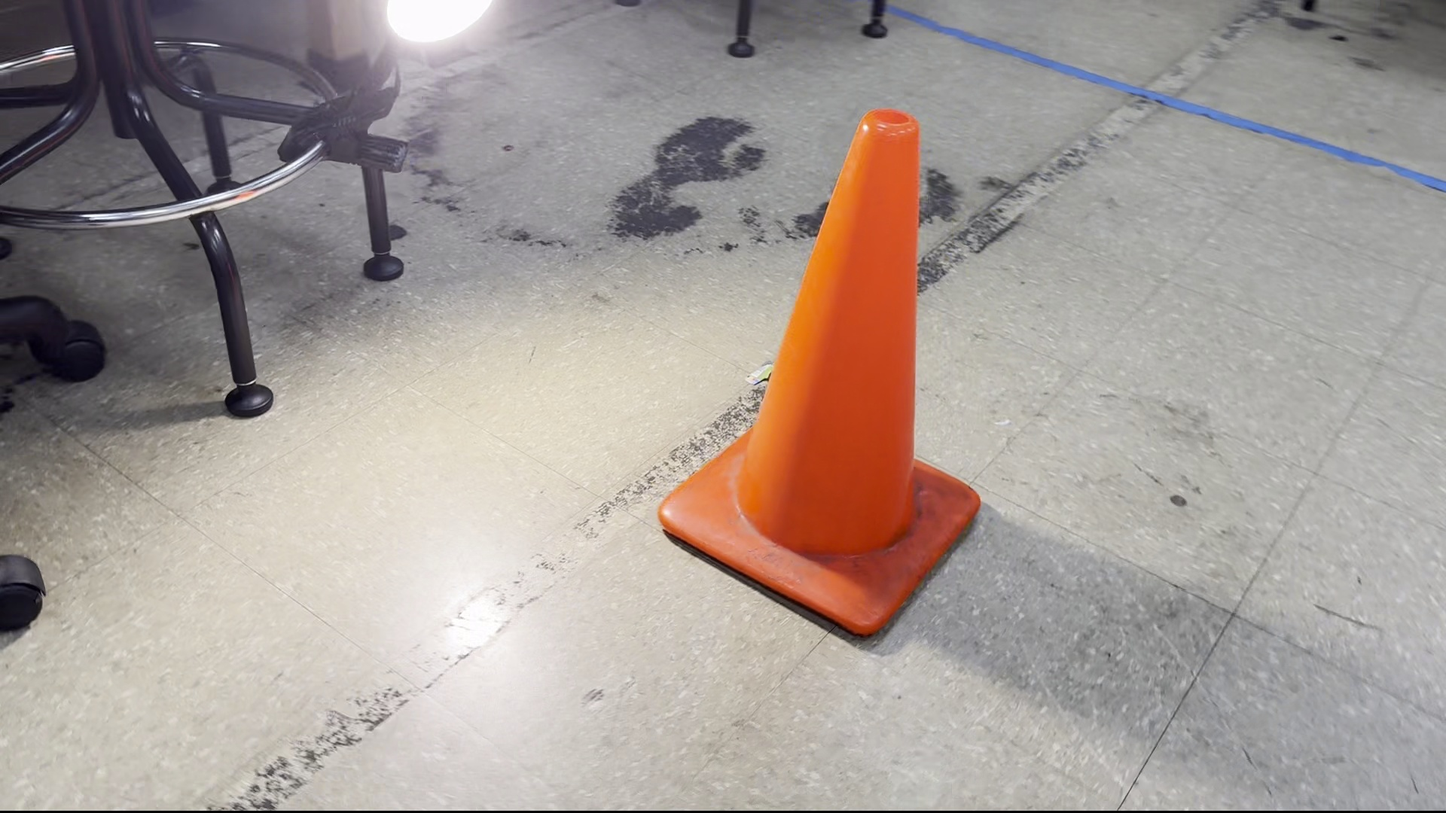traffic_cone: (657, 107, 981, 638)
